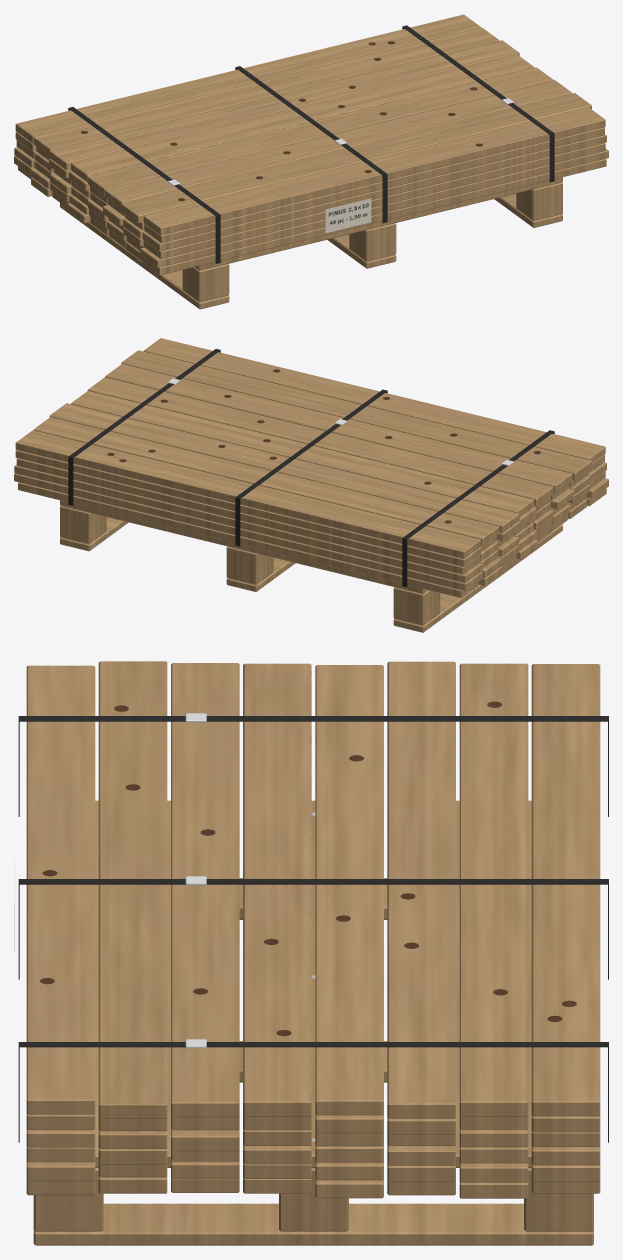
Rendered from pallet_tabuas.glb.
The picture shows the model from 3 angles, top to bottom: view 1: azimuth 30°, elevation 25°; view 2: azimuth 150°, elevation 25°; view 3: azimuth 270°, elevation 25°; orthographic projection. The views are drawn at different scales.
Parts seen in each view (by area): view 1: pallet_tabuas_camada_6_madeira_crua, pallet_tabuas_madeira_crua, pallet_tabuas_camada_4_madeira_crua, pallet_tabuas_camada_5_madeira_crua, pallet_tabuas_camada_2_madeira_crua, pallet_tabuas_camada_3_madeira_crua, pallet_tabuas_camada_1_madeira_crua, pallet_tabuas_fita_cinta, pallet_tabuas_etiq_tabuas; view 2: pallet_tabuas_camada_6_madeira_crua, pallet_tabuas_madeira_crua, pallet_tabuas_camada_2_madeira_crua, pallet_tabuas_camada_3_madeira_crua, pallet_tabuas_camada_4_madeira_crua, pallet_tabuas_camada_1_madeira_crua, pallet_tabuas_camada_5_madeira_crua, pallet_tabuas_fita_cinta; view 3: pallet_tabuas_camada_6_madeira_crua, pallet_tabuas_madeira_crua, pallet_tabuas_fita_cinta, pallet_tabuas_camada_2_madeira_crua, pallet_tabuas_camada_3_madeira_crua, pallet_tabuas_camada_4_madeira_crua, pallet_tabuas_camada_1_madeira_crua, pallet_tabuas_camada_5_madeira_crua, pallet_tabuas_camada_6_madeira_escura.
Part boxes in pixels (x1,y1,x2,y2): pallet_tabuas_camada_6_madeira_crua: (15,14,605,235); pallet_tabuas_madeira_crua: (60,177,562,309); pallet_tabuas_camada_4_madeira_crua: (16,134,606,251); pallet_tabuas_camada_5_madeira_crua: (15,127,604,243); pallet_tabuas_camada_2_madeira_crua: (14,148,608,267); pallet_tabuas_camada_3_madeira_crua: (14,143,605,259); pallet_tabuas_camada_1_madeira_crua: (18,158,606,275); pallet_tabuas_fita_cinta: (68,25,554,263); pallet_tabuas_etiq_tabuas: (325,198,371,232); pallet_tabuas_camada_6_madeira_crua: (15,338,605,558); pallet_tabuas_madeira_crua: (60,500,562,632); pallet_tabuas_camada_2_madeira_crua: (14,473,608,591); pallet_tabuas_camada_3_madeira_crua: (14,465,605,583); pallet_tabuas_camada_4_madeira_crua: (16,458,606,574); pallet_tabuas_camada_1_madeira_crua: (18,482,606,598); pallet_tabuas_camada_5_madeira_crua: (15,450,604,566); pallet_tabuas_fita_cinta: (68,349,554,587); pallet_tabuas_camada_6_madeira_crua: (26,661,600,1118); pallet_tabuas_madeira_crua: (33,800,593,1245); pallet_tabuas_fita_cinta: (18,716,608,1142); pallet_tabuas_camada_2_madeira_crua: (26,1160,600,1182); pallet_tabuas_camada_3_madeira_crua: (26,1145,600,1165); pallet_tabuas_camada_4_madeira_crua: (26,1129,600,1151); pallet_tabuas_camada_1_madeira_crua: (26,1176,600,1198); pallet_tabuas_camada_5_madeira_crua: (26,1114,600,1134); pallet_tabuas_camada_6_madeira_escura: (40,701,576,1036).
Bounding box in the file's own units: 1.5 × 0.298 × 0.8492.
6 materials, 3 textured.
